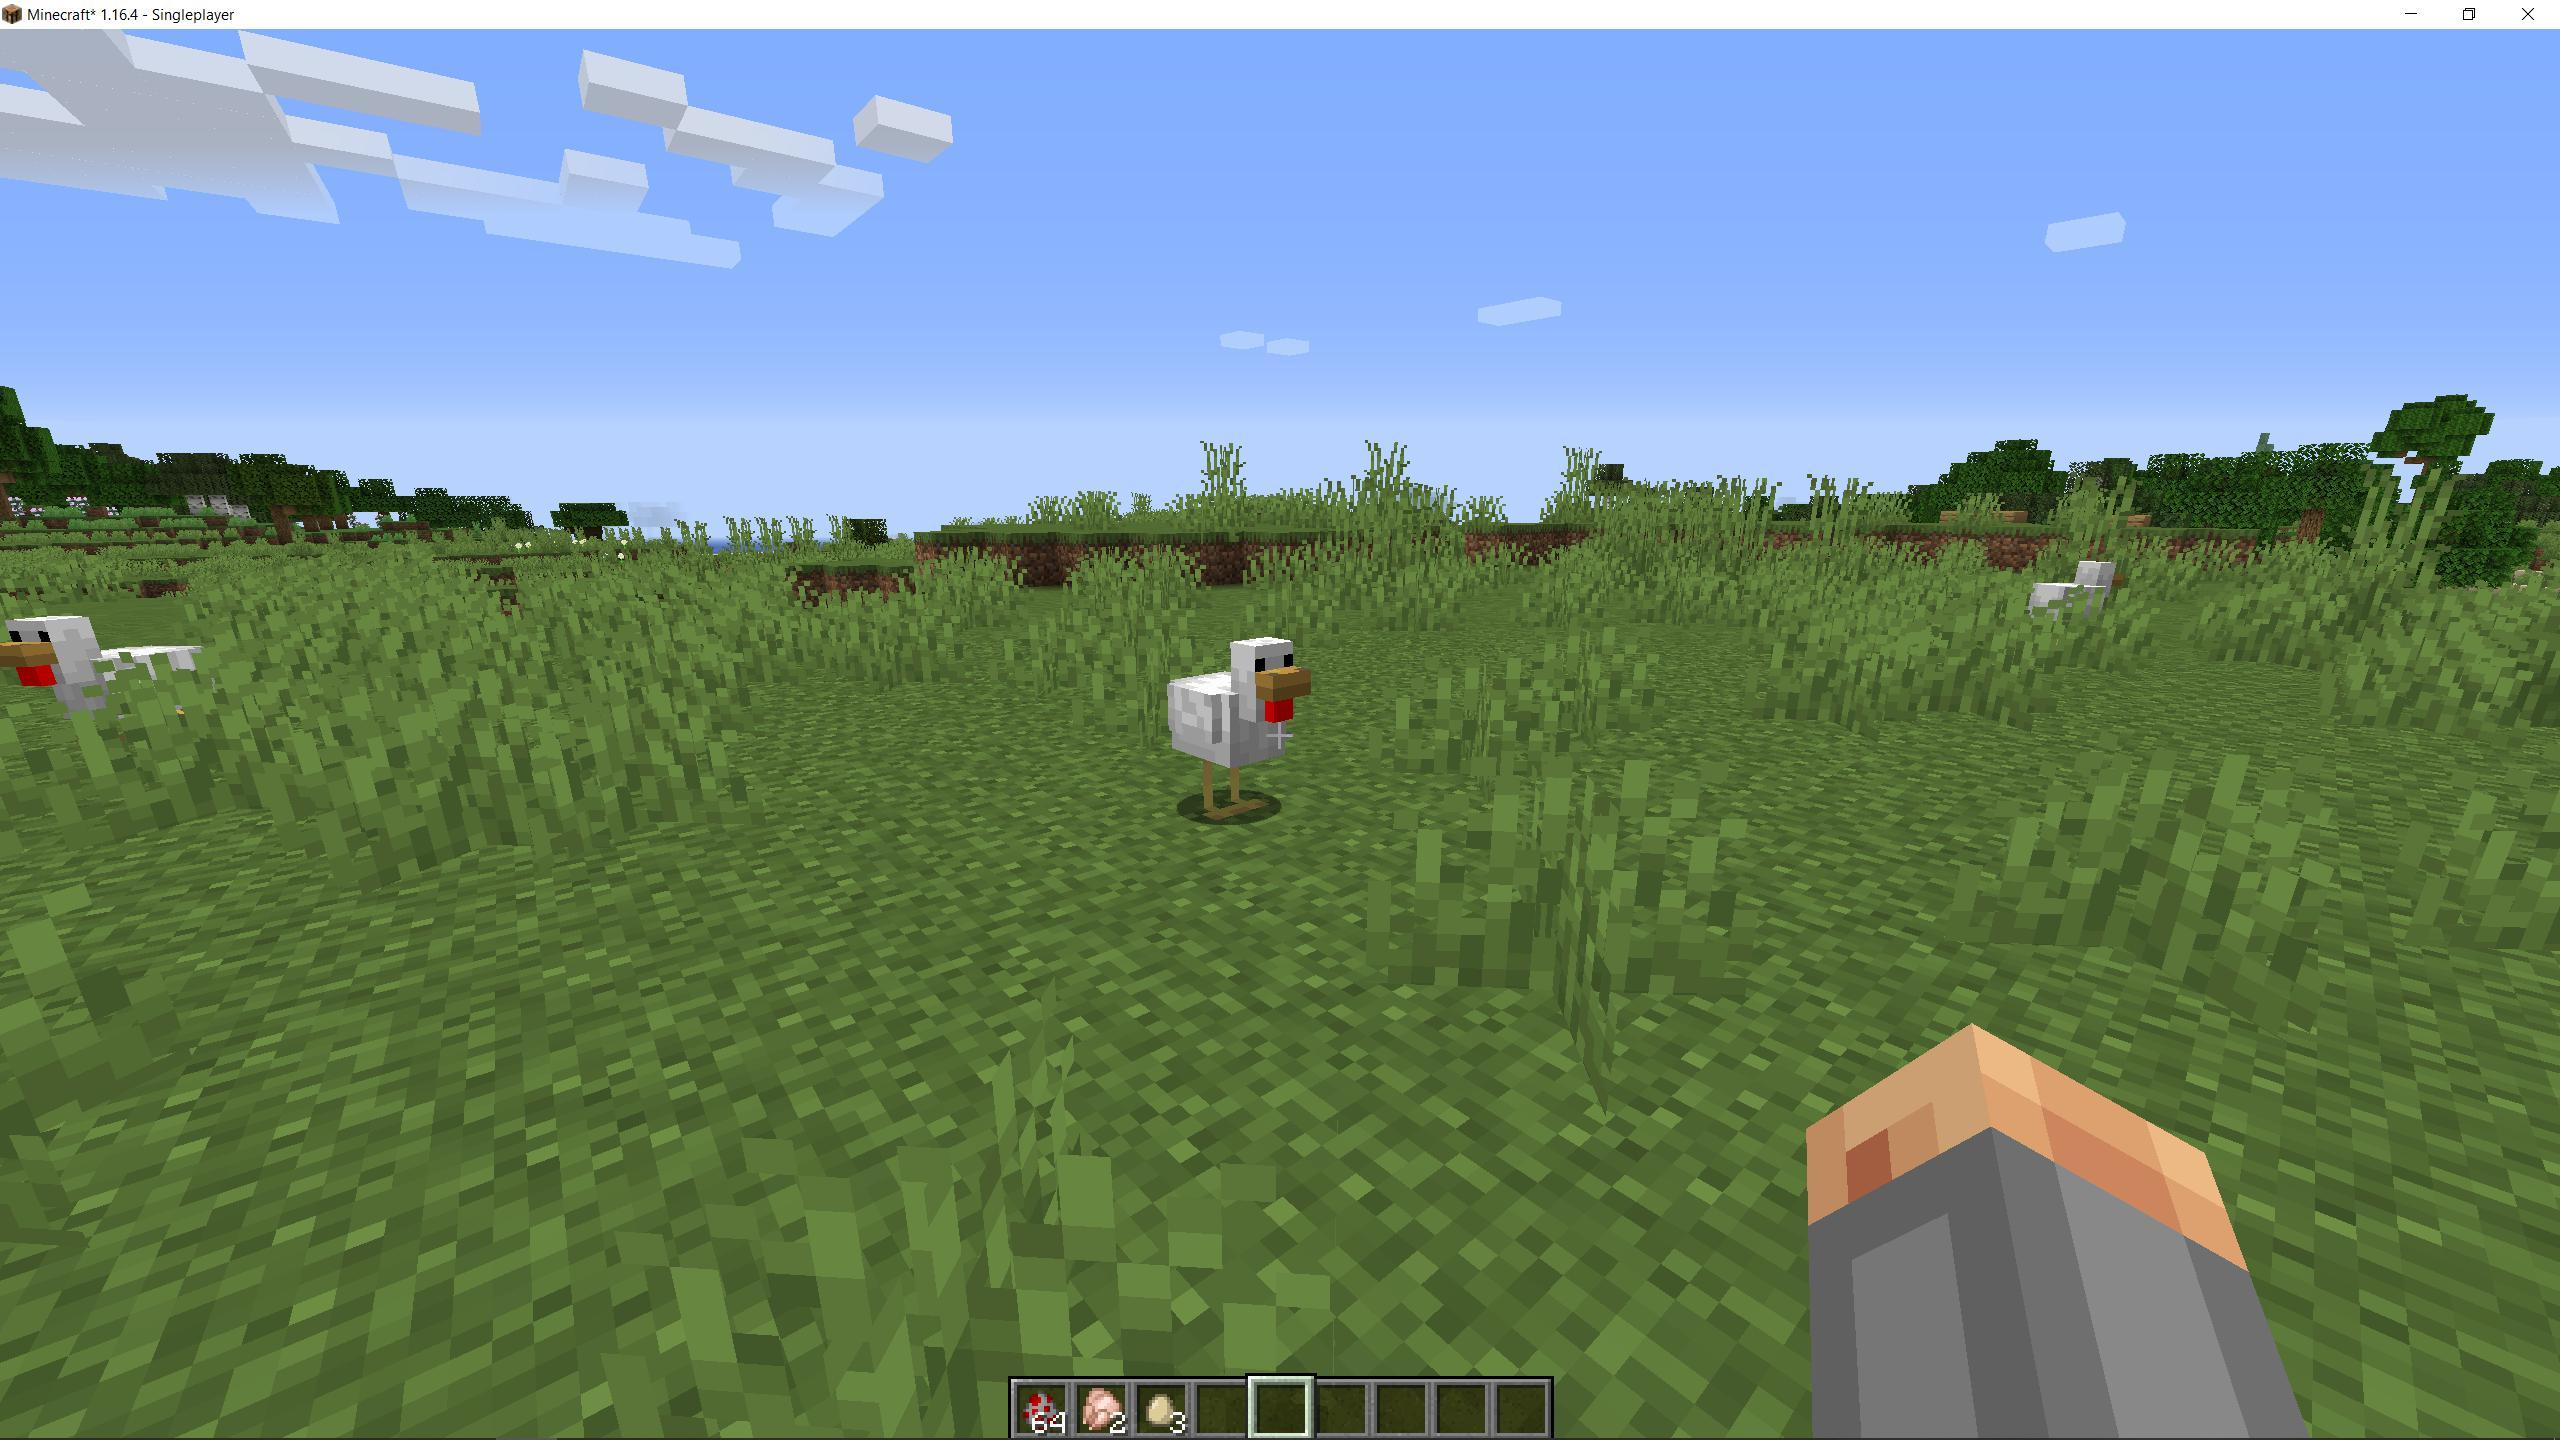chicken: (5, 600, 229, 772), (1148, 621, 1319, 839), (2018, 542, 2133, 663)
